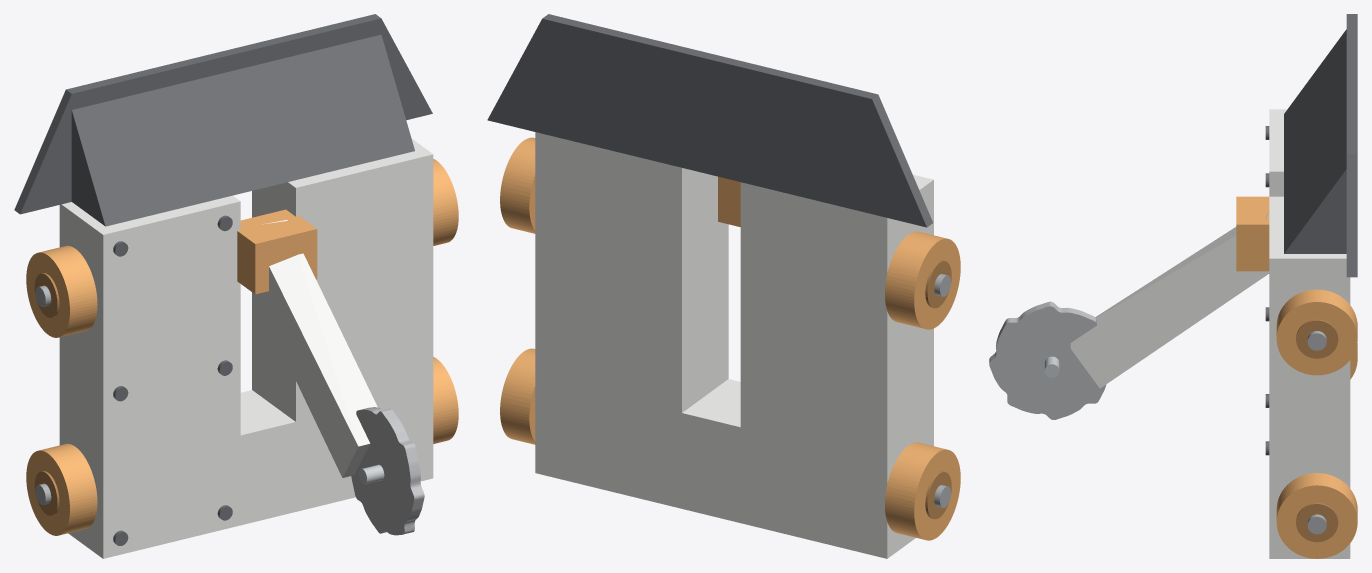
The model's file is sawcon.glb.
3 renders of one model, left to right at view 1: azimuth 30°, elevation 25°; view 2: azimuth 150°, elevation 25°; view 3: azimuth 270°, elevation 25°, orthographic. The views are drawn at different scales.
Parts seen in each view (by area): view 1: pod_r, plow_face, pod_l, plow, arm, bridge, weapon, arm_mount, wheel_r1, wheel_r0, wheel_l1, wheel_l0 (+2 smaller); view 2: pod_l, pod_r, plow, plow_face, bridge, wheel_r0, wheel_r1, wheel_l1, wheel_l0, arm_mount, dt_hub_wheel_r1, dt_hub_wheel_r0; view 3: pod_l, plow_face, arm, weapon, wheel_l1, wheel_l0, plow, arm_mount, pod_r, dt_hub_wheel_l1, dt_hub_wheel_l0.
Part boxes in pixels (bbox=[...]): pod_r: bbox=[59, 195, 240, 558]; plow_face: bbox=[71, 34, 414, 226]; pod_l: bbox=[252, 139, 433, 511]; plow: bbox=[14, 14, 432, 214]; arm: bbox=[255, 220, 377, 477]; bridge: bbox=[240, 390, 295, 525]; weapon: bbox=[351, 407, 424, 535]; arm_mount: bbox=[237, 209, 317, 294]; wheel_r1: bbox=[26, 245, 97, 337]; wheel_r0: bbox=[26, 443, 97, 535]; wheel_l1: bbox=[433, 159, 458, 245]; wheel_l0: bbox=[433, 357, 458, 443]; pod_l: bbox=[535, 132, 728, 508]; pod_r: bbox=[740, 174, 933, 558]; plow: bbox=[487, 14, 933, 227]; plow_face: bbox=[542, 19, 871, 213]; bridge: bbox=[681, 379, 740, 522]; wheel_r0: bbox=[885, 442, 960, 540]; wheel_r1: bbox=[885, 231, 960, 329]; wheel_l1: bbox=[500, 137, 535, 233]; wheel_l0: bbox=[500, 348, 535, 444]; arm_mount: bbox=[718, 176, 740, 226]; dt_hub_wheel_r1: bbox=[925, 260, 951, 308]; dt_hub_wheel_r0: bbox=[925, 471, 951, 519]; pod_l: bbox=[1269, 196, 1350, 558]; plow_face: bbox=[1284, 29, 1346, 253]; arm: bbox=[1070, 211, 1269, 388]; weapon: bbox=[989, 301, 1106, 419]; wheel_l1: bbox=[1276, 289, 1357, 375]; wheel_l0: bbox=[1276, 473, 1357, 558]; plow: bbox=[1346, 14, 1357, 277]; arm_mount: bbox=[1236, 196, 1269, 271]; pod_r: bbox=[1269, 109, 1287, 196]; dt_hub_wheel_l1: bbox=[1296, 319, 1338, 358]; dt_hub_wheel_l0: bbox=[1296, 503, 1338, 542].
Bounding box in the file's own units: 120 × 120 × 100.
